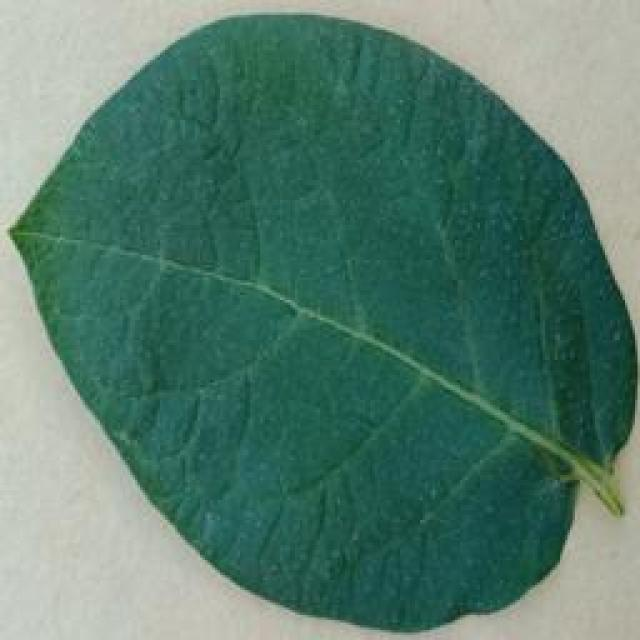Potato_Healthy: (7, 13, 626, 630)
